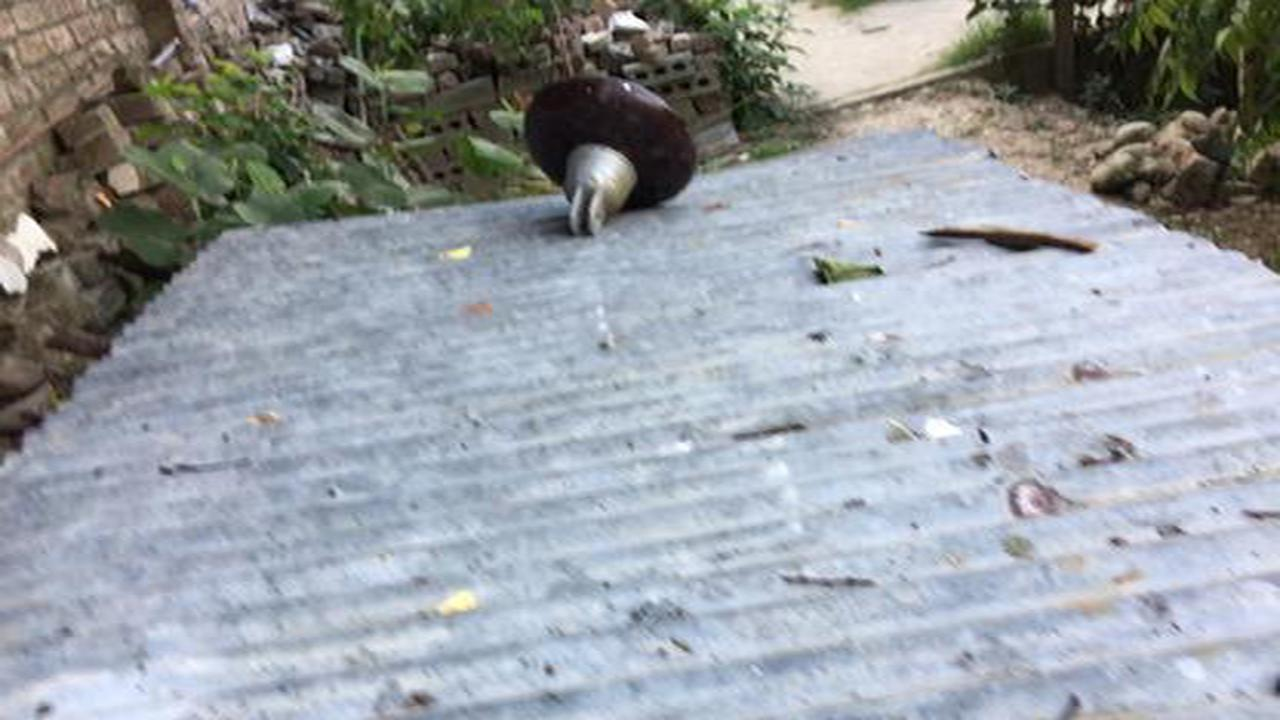insulator_disc: (519, 71, 703, 247)
